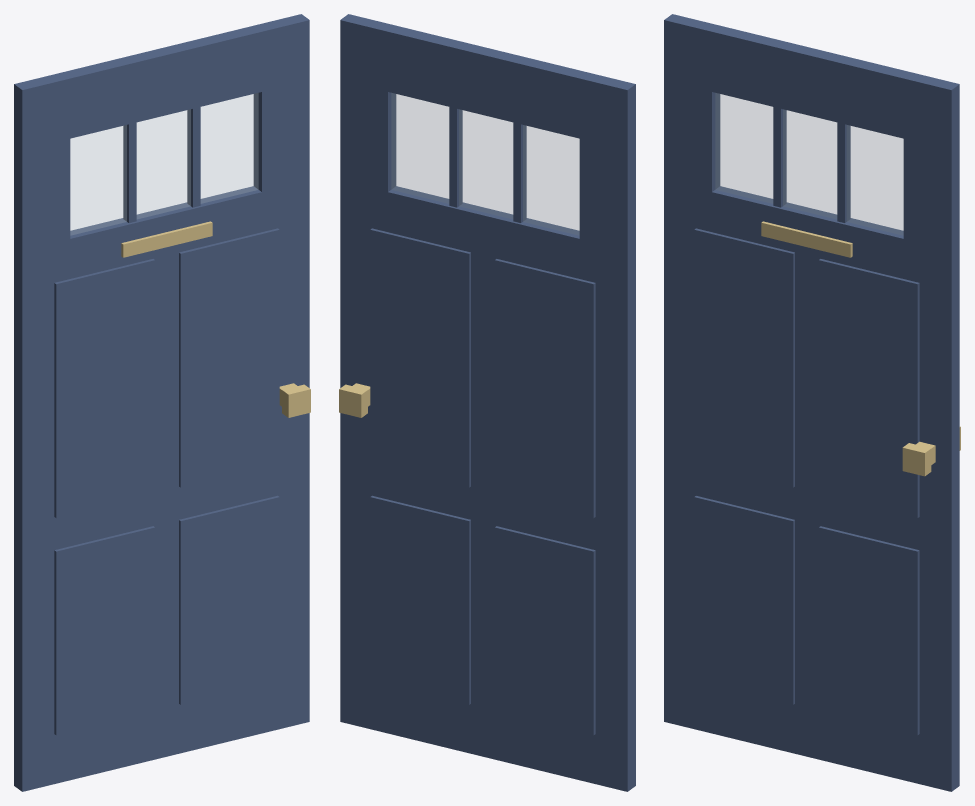
File: mlo_door_front_navy.glb
3 renders of one model, left to right at view 1: azimuth 30°, elevation 25°; view 2: azimuth 150°, elevation 25°; view 3: azimuth 330°, elevation 25°, orthographic.
Visible parts, largest first — view 1: Door_Front_Navy; view 2: Door_Front_Navy; view 3: Door_Front_Navy.
Boxes of the visible parts, left/top/right/bottom form: Door_Front_Navy: left=14, top=14, right=310, bottom=791; Door_Front_Navy: left=339, top=14, right=635, bottom=791; Door_Front_Navy: left=664, top=14, right=960, bottom=791.
Bounding box in the file's own units: 0.9 × 2.1 × 0.195.
